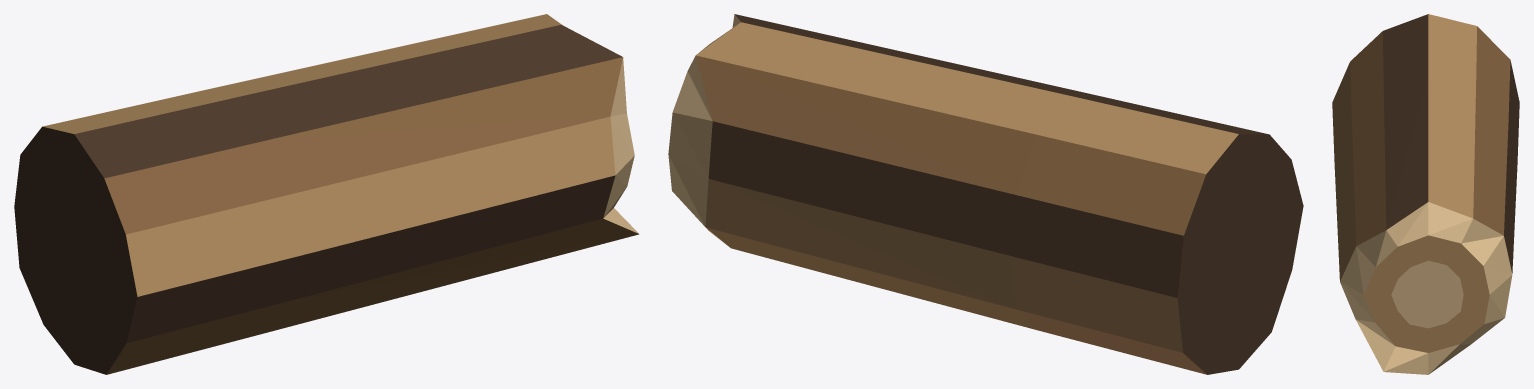
The model's file is TW_LOG_BROKEN_15M_A_LOD0.glb.
3 views of the same model, side by side, from view 1: azimuth 30°, elevation 25°; view 2: azimuth 150°, elevation 25°; view 3: azimuth 270°, elevation 25° (orthographic). The views are drawn at different scales.
Parts seen in each view (by area): view 1: TW_LOG_BROKEN_15M_A_LOD0; view 2: TW_LOG_BROKEN_15M_A_LOD0; view 3: TW_LOG_BROKEN_15M_A_LOD0.
Boxes of the visible parts, x1=… form: TW_LOG_BROKEN_15M_A_LOD0: x1=14, y1=14, x2=639, y2=374; TW_LOG_BROKEN_15M_A_LOD0: x1=668, y1=14, x2=1303, y2=374; TW_LOG_BROKEN_15M_A_LOD0: x1=1332, y1=14, x2=1519, y2=374.
Size of the model in its own units: 1.5 by 0.6163 by 0.5976.
Materials: 1 (1 with a texture image).
